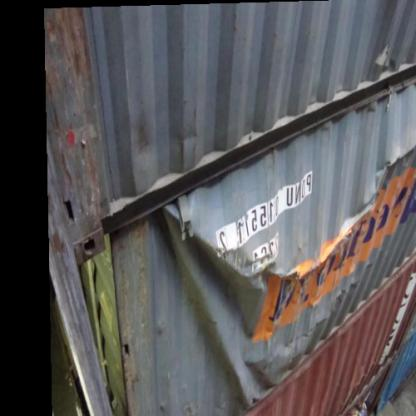Damage: (278, 157, 414, 282), (152, 206, 275, 299), (199, 293, 254, 407)
